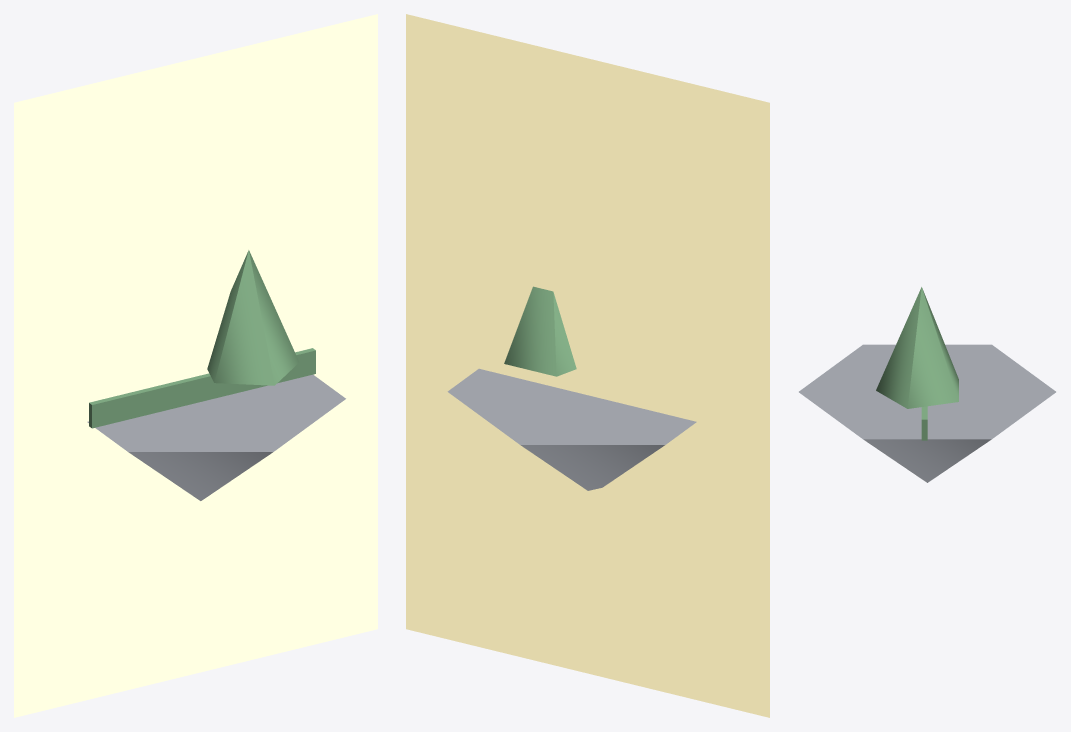
Rendered from window-view-island-lit.gltf.
The picture shows the model from 3 angles, left to right: view 1: azimuth 30°, elevation 25°; view 2: azimuth 150°, elevation 25°; view 3: azimuth 270°, elevation 25°; orthographic projection. The views are drawn at different scales.
Visible parts, largest first — view 1: Backdrop, Island, Tree, Grass; view 2: Backdrop, Island, Tree; view 3: Island, Tree.
Boxes of the visible parts, box(x1,y1,x2,y2) form: Backdrop: box(14, 14, 377, 717); Island: box(87, 374, 345, 500); Tree: box(207, 250, 299, 385); Grass: box(89, 348, 315, 428); Backdrop: box(406, 14, 769, 717); Island: box(447, 368, 696, 490); Tree: box(504, 286, 576, 376); Island: box(799, 344, 1055, 482); Tree: box(876, 287, 958, 408).
Size of the model in its own units: 1.3 by 2.1 by 0.9.
